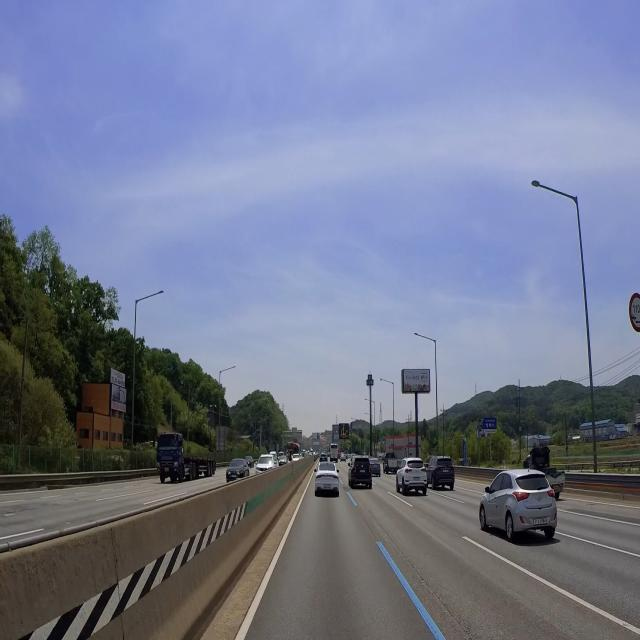car: (532, 513, 549, 531), (321, 479, 335, 496), (440, 465, 453, 478), (411, 472, 423, 485), (551, 482, 561, 497), (161, 466, 174, 476), (358, 466, 368, 478)
